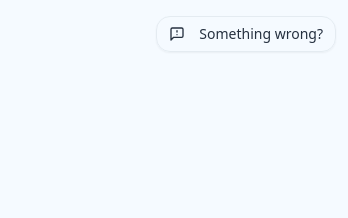
it: TrialReportControl › sends a complete report from one tap, with no typing
The image size is (348, 218).
Click the button "Something wrong?": (246, 34) [156, 16, 336, 52]
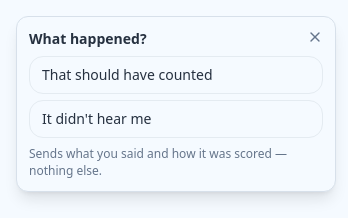
Click the button "That should have counted": (176, 75) [29, 56, 323, 94]
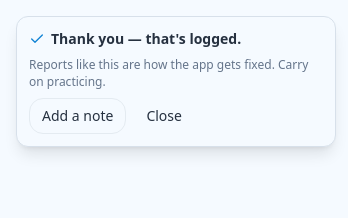
Expected: the text "Thank you — that's logged." is shown, [29, 29, 241, 48]
